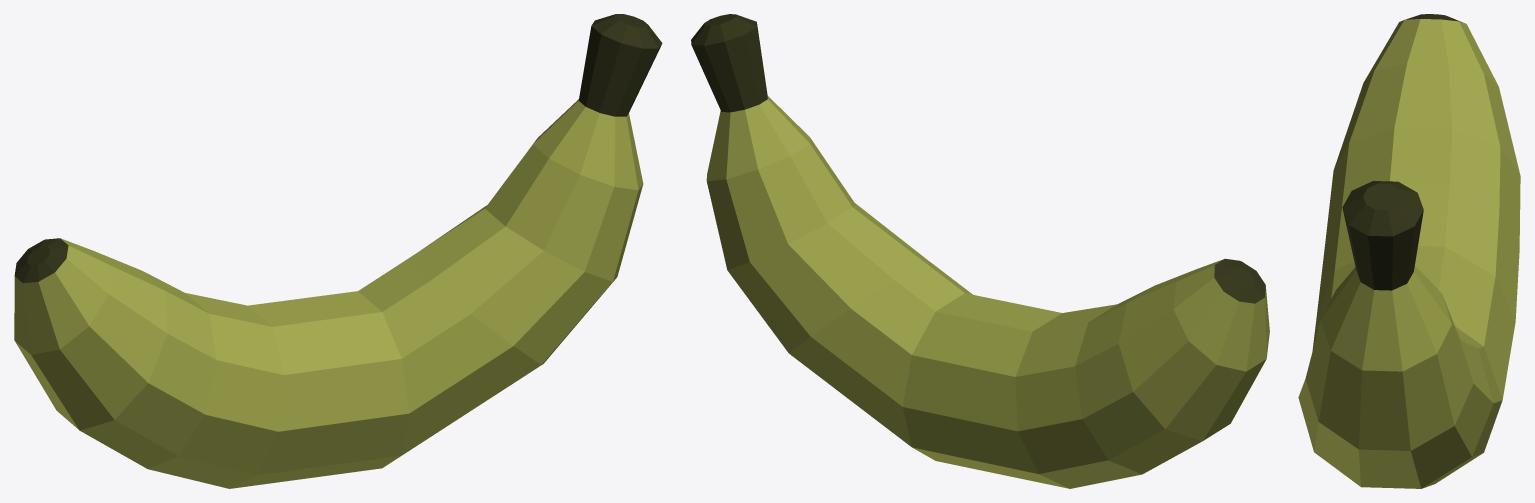
File: Banana.fbx
3 renders of one model, left to right at view 1: azimuth 30°, elevation 25°; view 2: azimuth 150°, elevation 25°; view 3: azimuth 270°, elevation 25°, orthographic. The views are drawn at different scales.
Visible parts, largest first — view 1: Banana; view 2: Banana; view 3: Banana.
Part boxes in pixels (x1,y1,x2,y2): Banana: (14,14,662,488); Banana: (691,14,1269,488); Banana: (1298,14,1520,488).
Size of the model in its own units: 94.27 by 56.87 by 26.85.
